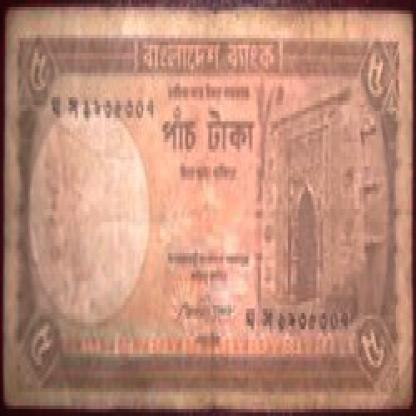Five Taka: (160, 104, 258, 159), (359, 326, 393, 395), (23, 31, 55, 101), (27, 305, 53, 381), (366, 42, 388, 108)
